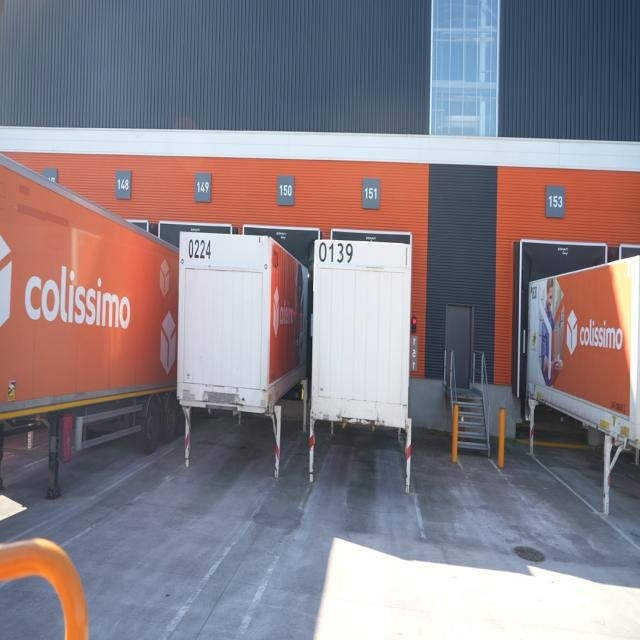Code: (317, 239, 354, 268), (185, 236, 215, 266)
